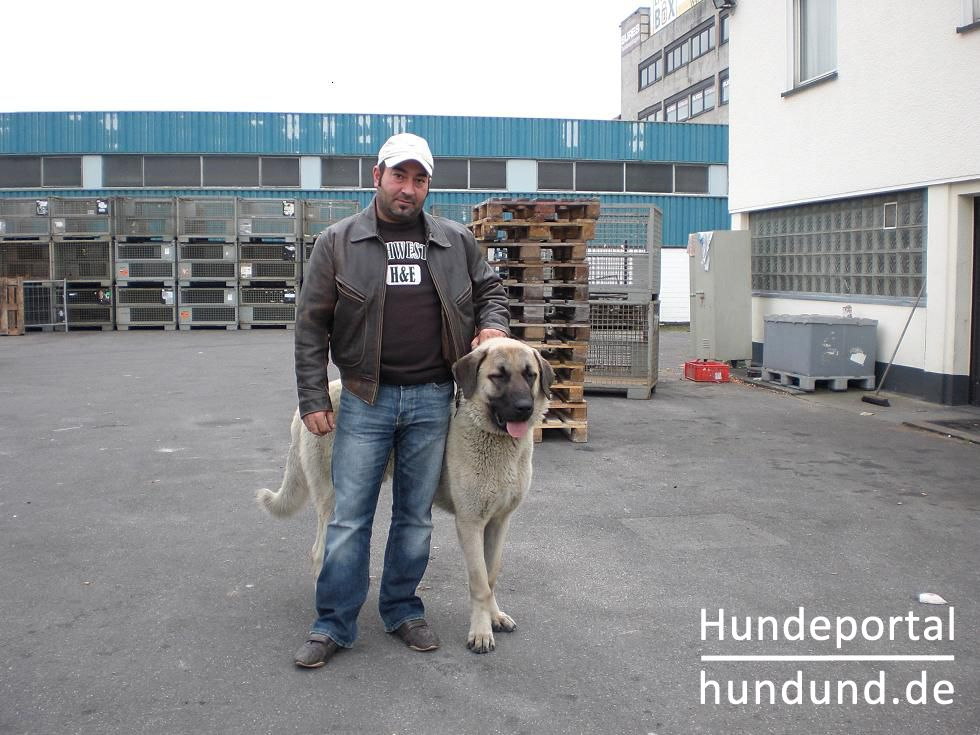human_face: (371, 159, 430, 220)
kangal: (255, 336, 554, 653)
person: (293, 129, 512, 668)
